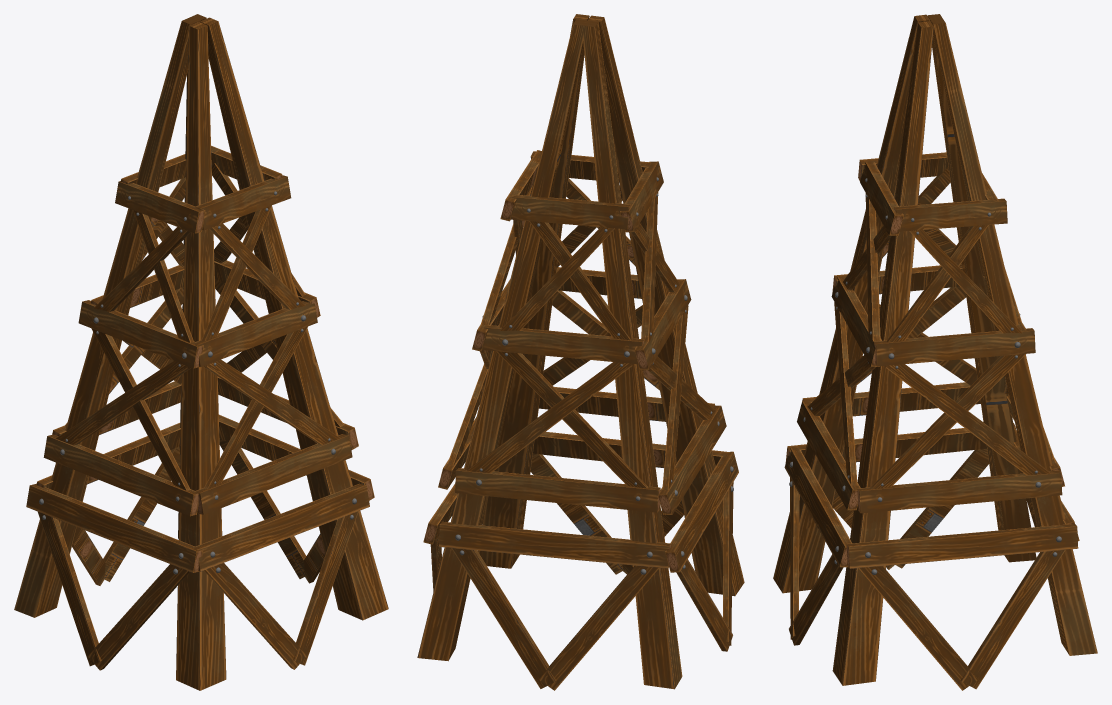
The model's file is windmill.002.fbx.
3 views of the same model, side by side, from view 1: azimuth 30°, elevation 25°; view 2: azimuth 150°, elevation 25°; view 3: azimuth 270°, elevation 25° (orthographic).
Visible parts, largest first — view 1: windmill.002; view 2: windmill.002; view 3: windmill.002.
Part boxes in pixels (left/top/right/bottom): windmill.002: left=14, top=14, right=388, bottom=690; windmill.002: left=417, top=14, right=744, bottom=690; windmill.002: left=773, top=14, right=1097, bottom=690.
Size of the model in its own units: 699 by 1432 by 694.
1 material, 1 textured.
